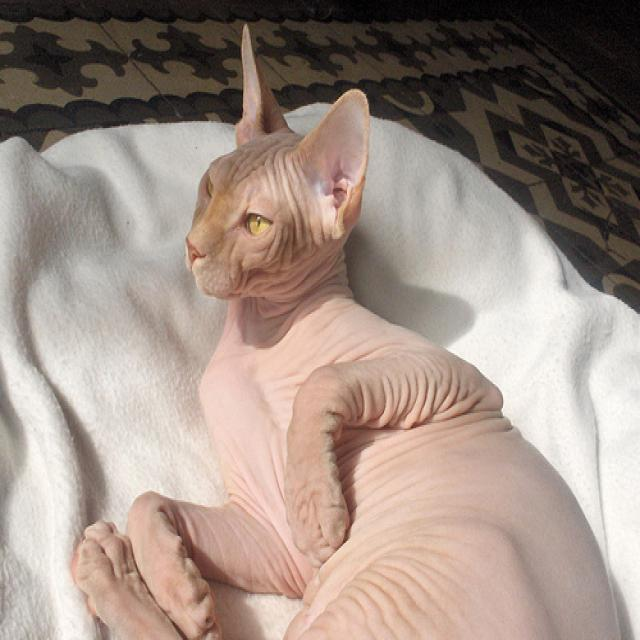Sphynx: (183, 22, 367, 299)
